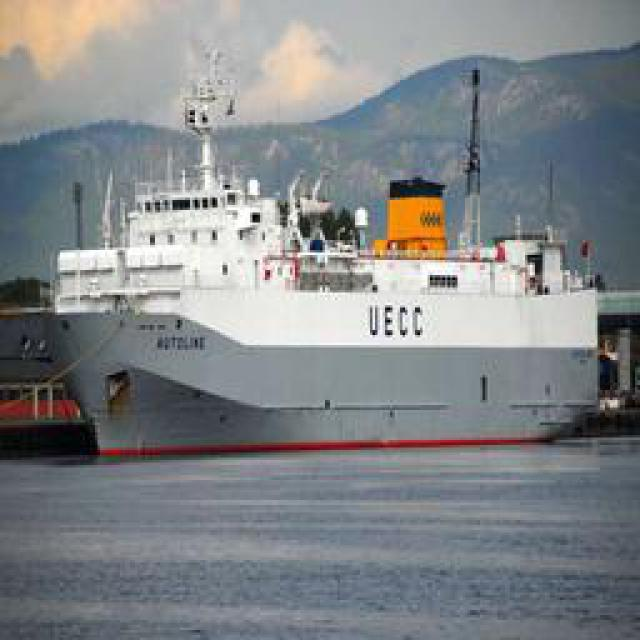Ship: (15, 78, 600, 443)
